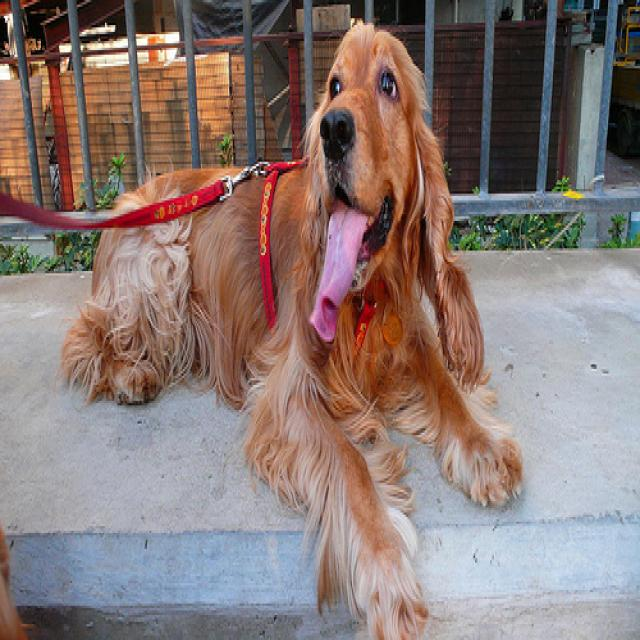dog-english_cocker_spaniel: (58, 14, 522, 635)
